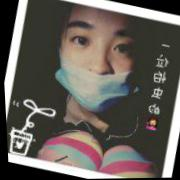WRONG: (48, 3, 150, 115)
